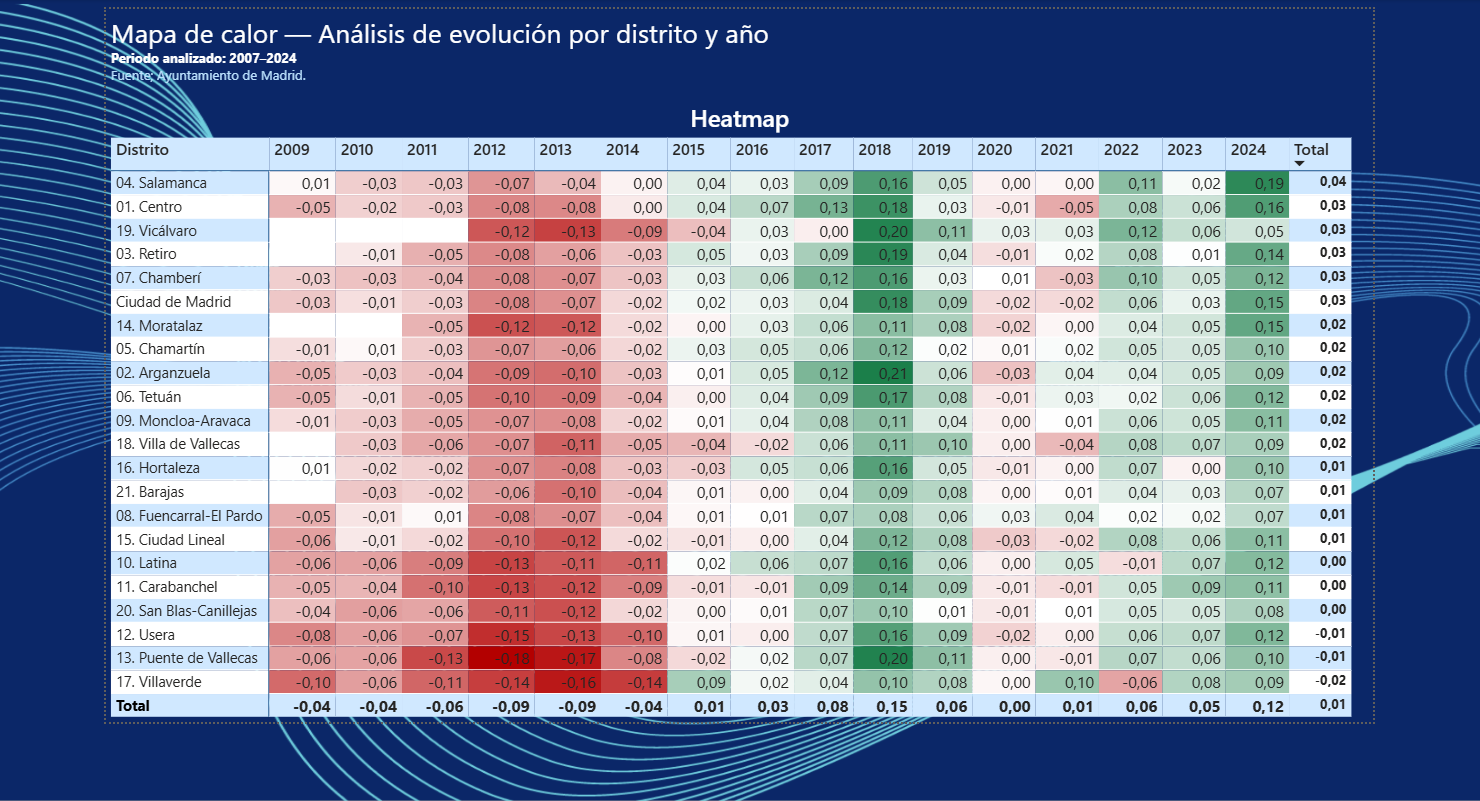

This screenshot's page, from the dashboard's own definition file:
{"tool":"powerbi","page":{"name":"Mapa de Calor","canvas":[1280,720],"ordinal":1},"visuals":[{"type":"textbox","box":[0,0,1280,83.8],"z":0},{"type":"pivotTable","title":"Heatmap","fields":{"Columns":["DimFecha.Año"],"Rows":["DimDistrito.Distrito"],"Values":["FactPrecios.Variación YoY"]},"box":[0,92.5,1280,627.5],"z":2000}]}

Visuals, with their boxes on the page's 1280x720 design canvas (x1, y1, x2, y2). These are canvas units, not pixel positions in the 1480x801 screenshot, which may show the page scaled, cropped or inside an application window:
textbox: Rect(0, 0, 1280, 84)
"Heatmap" pivotTable: Rect(0, 92, 1280, 720)
